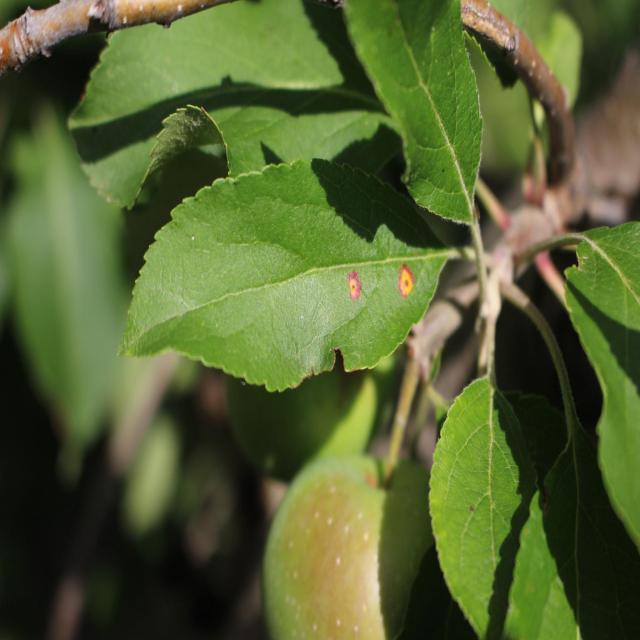Rust: (336, 238, 371, 321), (387, 252, 421, 315)
